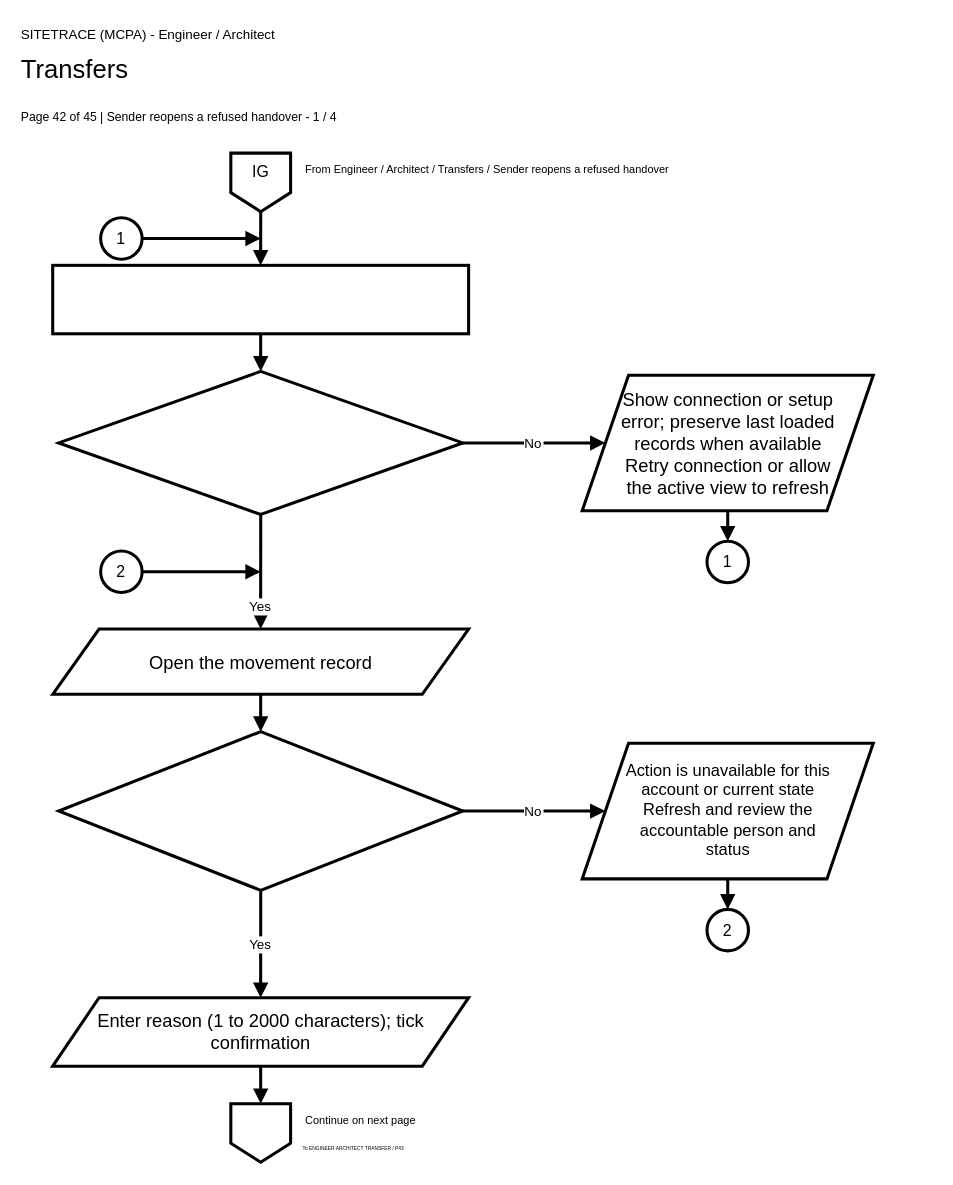
Some shapes in this 953 by 1185 pixel diagram are drawn without their labels. Each missing label, with the centre of its shape:
"Did valid movement data load?" goes at point (260, 442).
"Is this account the sender of a currently refused transfer?" goes at point (260, 810).
"JK" goes at point (260, 1132).
"Load authorized records using mcpa_movement_snapshot" goes at point (260, 299).
